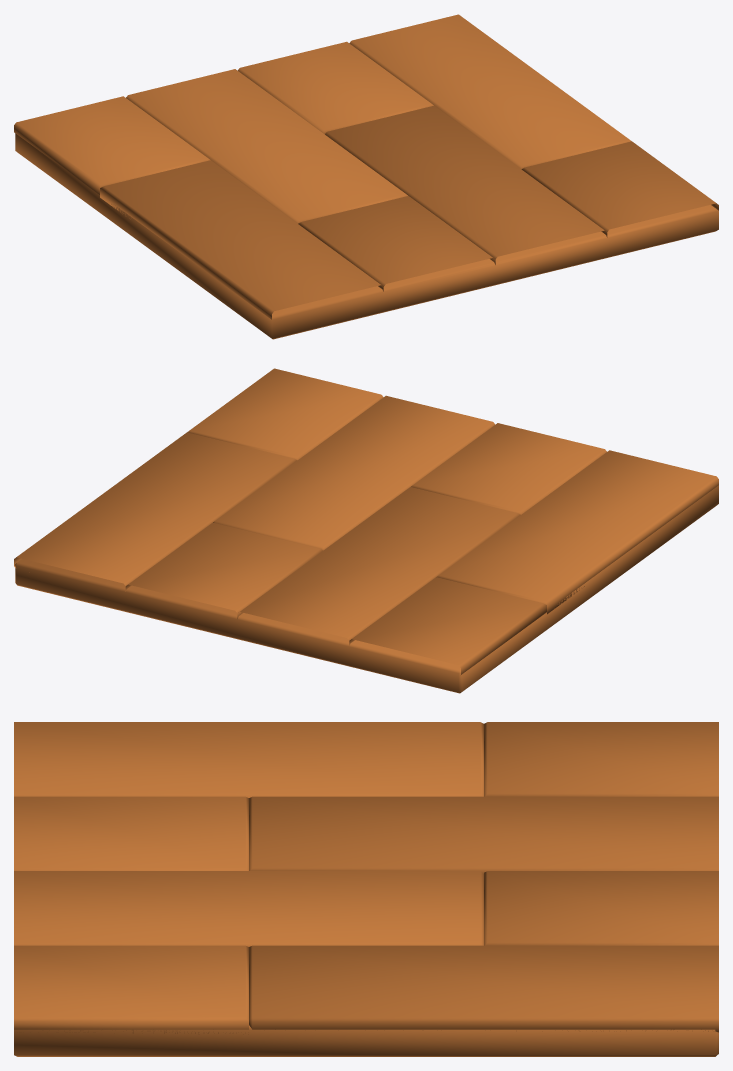
Rendered from FloorBoards.gltf.
The picture shows the model from 3 angles, top to bottom: view 1: azimuth 30°, elevation 25°; view 2: azimuth 150°, elevation 25°; view 3: azimuth 270°, elevation 25°; orthographic projection. The views are drawn at different scales.
Visible parts, largest first — view 1: FloorBoards; view 2: FloorBoards; view 3: FloorBoards.
Part boxes in pixels (x1=…): FloorBoards: x1=14, y1=14, x2=718, y2=339; FloorBoards: x1=14, y1=368, x2=718, y2=693; FloorBoards: x1=14, y1=722, x2=718, y2=1056.
Bounding box in the file's own units: 2 × 0.125 × 2.
